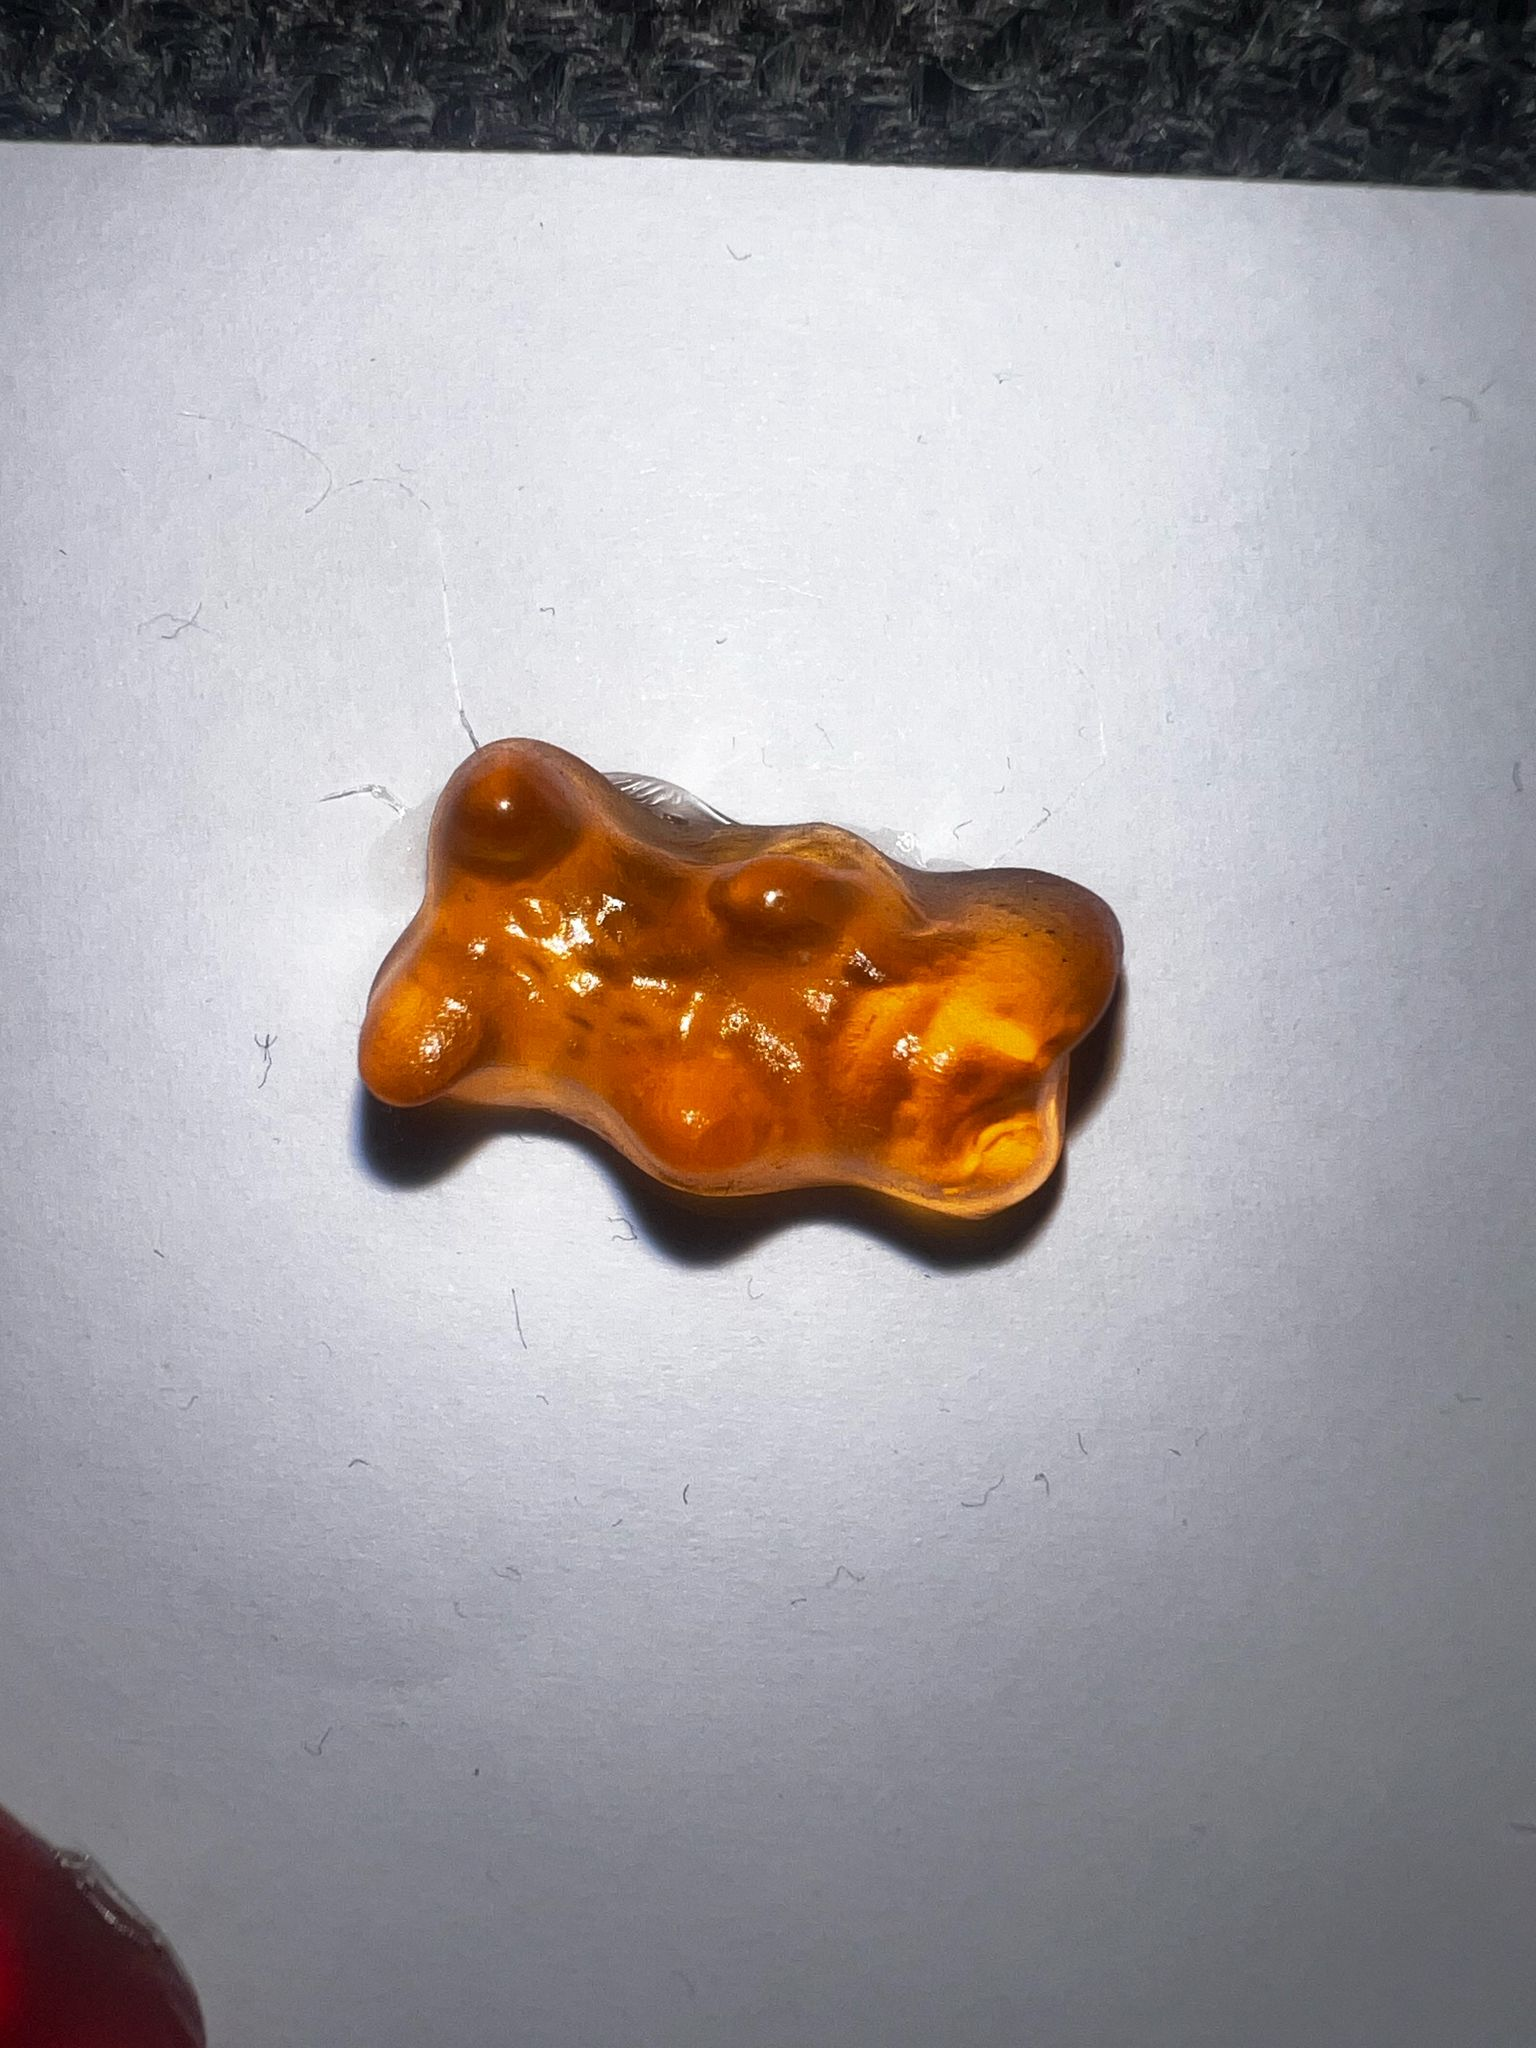gummybear: (352, 727, 1142, 1268)
